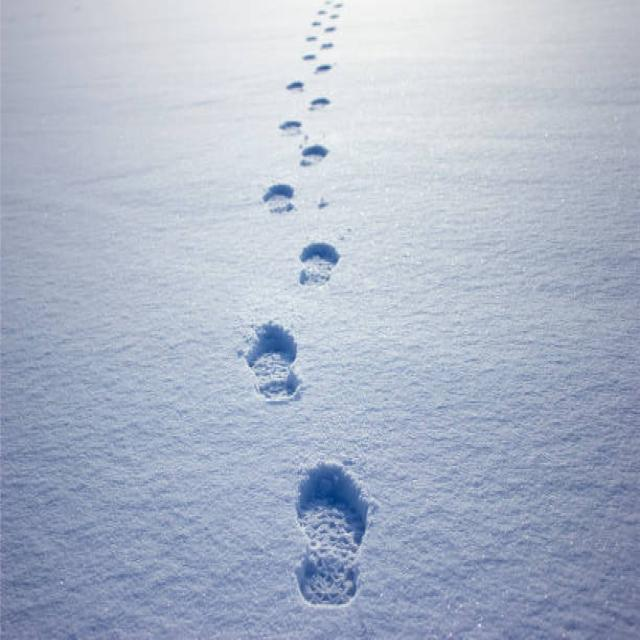human_foot_print: (194, 3, 408, 615), (287, 457, 379, 611)
